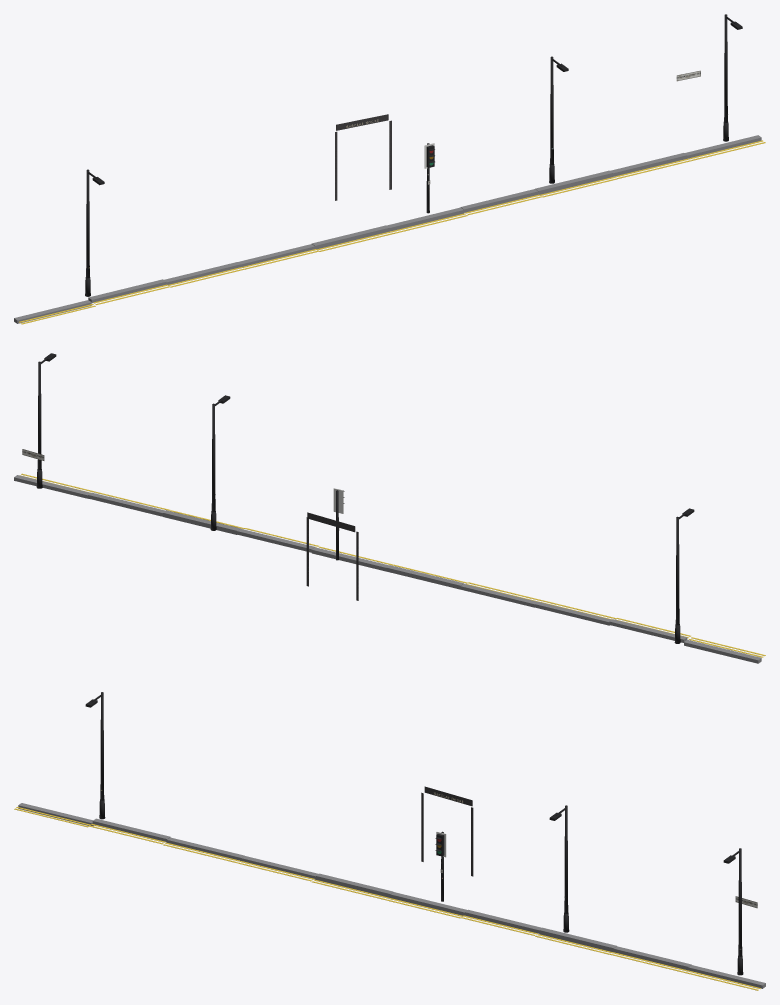
The model's file is ext7_street.glb.
3 views of the same model, one above another, from view 1: azimuth 30°, elevation 25°; view 2: azimuth 150°, elevation 25°; view 3: azimuth 330°, elevation 25° (orthographic).
Parts seen in each view (by area): view 1: EXT7_kerb_07, EXT7_kerb_04, EXT7_kerb_05, EXT7_kerb_08, EXT7_kerb_06, EXT7_kerb_01; view 2: EXT7_kerb_04, EXT7_kerb_07, EXT7_kerb_08, EXT7_kerb_00, EXT7_kerb_03, EXT7_kerb_02, EXT7_kerb_06, EXT7_kerb_05; view 3: EXT7_kerb_07, EXT7_kerb_04, EXT7_kerb_05, EXT7_kerb_08, EXT7_kerb_06, EXT7_kerb_09, EXT7_kerb_01.
Part boxes in pixels (x1=…): EXT7_kerb_07: x1=535, y1=170, x2=612, y2=194; EXT7_kerb_04: x1=311, y1=225, x2=389, y2=249; EXT7_kerb_05: x1=387, y1=207, x2=463, y2=231; EXT7_kerb_08: x1=610, y1=153, x2=687, y2=176; EXT7_kerb_06: x1=460, y1=189, x2=538, y2=212; EXT7_kerb_01: x1=88, y1=279, x2=166, y2=303; EXT7_kerb_04: x1=386, y1=565, x2=463, y2=589; EXT7_kerb_07: x1=163, y1=510, x2=240, y2=534; EXT7_kerb_08: x1=88, y1=492, x2=165, y2=516; EXT7_kerb_00: x1=684, y1=640, x2=761, y2=663; EXT7_kerb_03: x1=460, y1=584, x2=537, y2=607; EXT7_kerb_02: x1=535, y1=602, x2=611, y2=625; EXT7_kerb_06: x1=237, y1=529, x2=314, y2=552; EXT7_kerb_05: x1=311, y1=547, x2=388, y2=571; EXT7_kerb_07: x1=539, y1=927, x2=616, y2=951; EXT7_kerb_04: x1=316, y1=873, x2=393, y2=897; EXT7_kerb_05: x1=390, y1=892, x2=467, y2=915; EXT7_kerb_08: x1=613, y1=946, x2=691, y2=970; EXT7_kerb_06: x1=465, y1=909, x2=541, y2=933; EXT7_kerb_09: x1=688, y1=965, x2=765, y2=988; EXT7_kerb_01: x1=92, y1=818, x2=170, y2=842.
Bounding box in the file's own units: 38.5 × 6.43 × 4.59.
63 materials, 8 textured.
